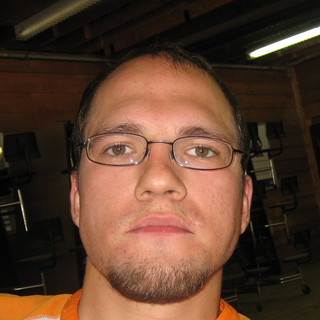eye: (93, 136, 142, 163), (178, 136, 223, 165)
